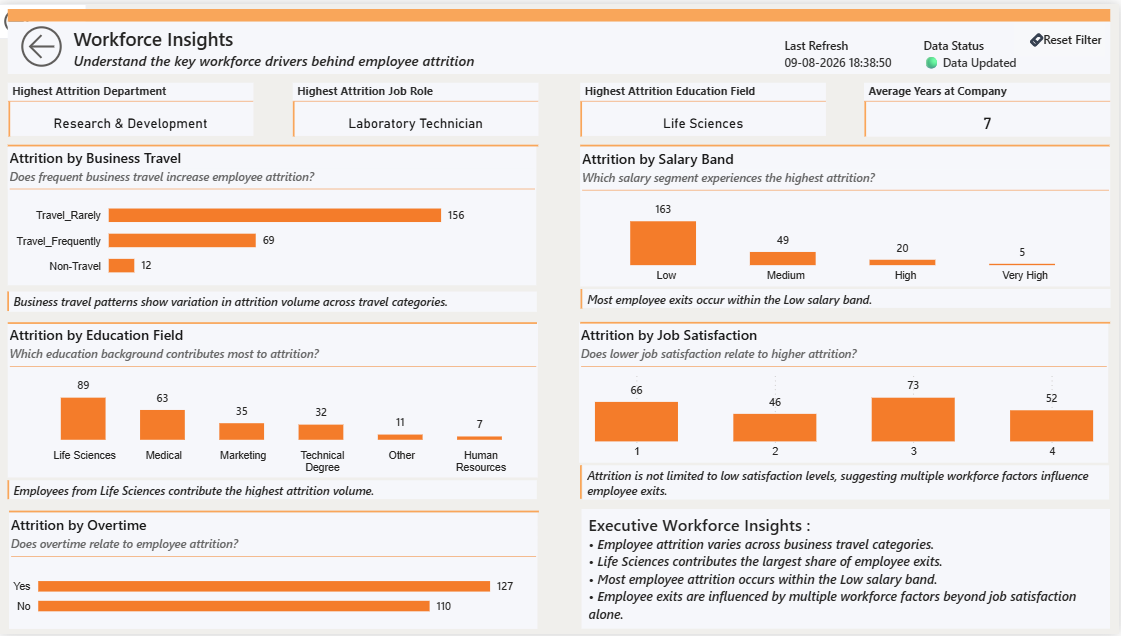

The dashboard page shown, as its layout file describes it:
{"tool":"powerbi","page":{"name":"Workforce Insights","canvas":[1280,720],"ordinal":2},"visuals":[{"type":"card","title":"Average Years at Company","fields":{"Values":["Measures (2).Average Years at Company"]},"box":[988.6,90,281.4,61.4],"z":0},{"type":"card","title":"Highest Attrition Education Field","fields":{"Values":["Measures (2).Highest Education Field"]},"box":[664.3,89.6,281.1,61],"z":1000},{"type":"card","title":"Highest Attrition Job Role","fields":{"Values":["Measures (2).Highest Attrition Job Role"]},"box":[335.9,89.6,281.1,61],"z":2000},{"type":"card","title":"Highest Attrition Department","fields":{"Values":["Measures (2).Highest Attrition Department"]},"box":[10,89.6,281.1,61],"z":3000},{"type":"actionButton","box":[0,0,100,40],"z":4000},{"type":"clusteredBarChart","title":"Attrition by Business Travel","fields":{"Category":["Employees.BusinessTravel"],"Y":["Measures (2).Attrition Count"]},"box":[10,161.4,604,160],"z":5000},{"type":"textbox","box":[11.4,328.6,602.9,22.9],"z":6000},{"type":"clusteredColumnChart","title":"Attrition by Education Field","fields":{"Y":["Measures (2).Attrition Count"],"Category":["Employees.EducationField"]},"box":[10,364.3,605.7,177.1],"z":7000},{"type":"clusteredColumnChart","title":"Attrition by Salary Band","fields":{"Y":["Measures (2).Attrition Count"],"Category":["Employees.Salary Band"]},"box":[664.3,162.9,605.7,160],"z":8000},{"type":"clusteredColumnChart","title":"Attrition by Job Satisfaction","fields":{"Category":["Employees.JobSatisfaction"],"Y":["Measures (2).Attrition Count"]},"box":[662.9,364.3,605,160],"z":9000},{"type":"shape","box":[10,20,1260,60],"z":10000},{"type":"shape","box":[10,5.7,1260,14.3],"z":11000},{"type":"cardVisual","title":"Last Refresh","fields":{"Data":["Min(Last Refreshed.LastRefresh)","Measures (2).Data Status"]},"box":[878.3,16.7,350,80],"z":12000},{"type":"textbox","box":[80,20,505,61],"z":13000},{"type":"shape","box":[4.3,328.6,12.3,22.3],"z":14000},{"type":"textbox","box":[11.4,544.3,602.9,21.4],"z":15000},{"type":"shape","box":[660,325.6,11.2,22.5],"z":16000},{"type":"textbox","box":[667.1,325.7,602.9,21.4],"z":17000},{"type":"shape","box":[4.4,543.8,12.7,21.8],"z":18000},{"type":"textbox","box":[667.1,527.1,601.4,39],"z":19000},{"type":"shape","box":[658.1,526.9,12.9,38.6],"z":20000},{"type":"textbox","box":[665.7,577.1,604.3,137.1],"z":21000},{"type":"shape","box":[10,153.8,606.2,15],"z":22000},{"type":"shape","box":[665,153.8,605,15],"z":23000},{"type":"shape","box":[10,357.1,605,15],"z":24000},{"type":"shape","box":[664.3,357.1,605.7,14.3],"z":25000},{"type":"shape","box":[965.7,110.7,48.6,40],"z":26000},{"type":"shape","box":[641.4,110.7,47.9,40],"z":27000},{"type":"shape","box":[312.1,110.7,47.9,40],"z":28000},{"type":"shape","box":[5,110.7,12.1,40],"z":29000},{"type":"actionButton","title":"Reset Filter","box":[1160,21.4,104.3,38.6],"z":30000},{"type":"actionButton","box":[18.6,18.6,61.4,60],"z":31000},{"type":"clusteredBarChart","title":"Attrition by Overtime","fields":{"Category":["Employees.OverTime"],"Y":["Measures (2).Attrition Count"]},"box":[11.4,581.4,604.3,132.9],"z":32000},{"type":"shape","box":[11.4,575.7,605.7,8.6],"z":33000}]}

Visuals, with their boxes in screenshot pixels (x1, y1, x2, y2), scaled from the page's 1280x720 canvas onto the 1121x636 screenshot:
"Average Years at Company" card: (x1=866, y1=80, x2=1112, y2=134)
"Highest Attrition Education Field" card: (x1=582, y1=79, x2=828, y2=133)
"Highest Attrition Job Role" card: (x1=294, y1=79, x2=540, y2=133)
"Highest Attrition Department" card: (x1=9, y1=79, x2=255, y2=133)
actionButton: (x1=0, y1=0, x2=88, y2=35)
"Attrition by Business Travel" clusteredBarChart: (x1=9, y1=143, x2=538, y2=284)
textbox: (x1=10, y1=290, x2=538, y2=310)
"Attrition by Education Field" clusteredColumnChart: (x1=9, y1=322, x2=539, y2=478)
"Attrition by Salary Band" clusteredColumnChart: (x1=582, y1=144, x2=1112, y2=285)
"Attrition by Job Satisfaction" clusteredColumnChart: (x1=581, y1=322, x2=1110, y2=463)
shape: (x1=9, y1=18, x2=1112, y2=71)
shape: (x1=9, y1=5, x2=1112, y2=18)
"Last Refresh" cardVisual: (x1=769, y1=15, x2=1076, y2=85)
textbox: (x1=70, y1=18, x2=512, y2=72)
shape: (x1=4, y1=290, x2=15, y2=310)
textbox: (x1=10, y1=481, x2=538, y2=500)
shape: (x1=578, y1=288, x2=588, y2=307)
textbox: (x1=584, y1=288, x2=1112, y2=307)
shape: (x1=4, y1=480, x2=15, y2=500)
textbox: (x1=584, y1=466, x2=1111, y2=500)
shape: (x1=576, y1=465, x2=588, y2=500)
textbox: (x1=583, y1=510, x2=1112, y2=631)
shape: (x1=9, y1=136, x2=540, y2=149)
shape: (x1=582, y1=136, x2=1112, y2=149)
shape: (x1=9, y1=315, x2=539, y2=329)
shape: (x1=582, y1=315, x2=1112, y2=328)
shape: (x1=846, y1=98, x2=888, y2=133)
shape: (x1=562, y1=98, x2=604, y2=133)
shape: (x1=273, y1=98, x2=315, y2=133)
shape: (x1=4, y1=98, x2=15, y2=133)
"Reset Filter" actionButton: (x1=1016, y1=19, x2=1107, y2=53)
actionButton: (x1=16, y1=16, x2=70, y2=69)
"Attrition by Overtime" clusteredBarChart: (x1=10, y1=514, x2=539, y2=631)
shape: (x1=10, y1=509, x2=540, y2=516)
